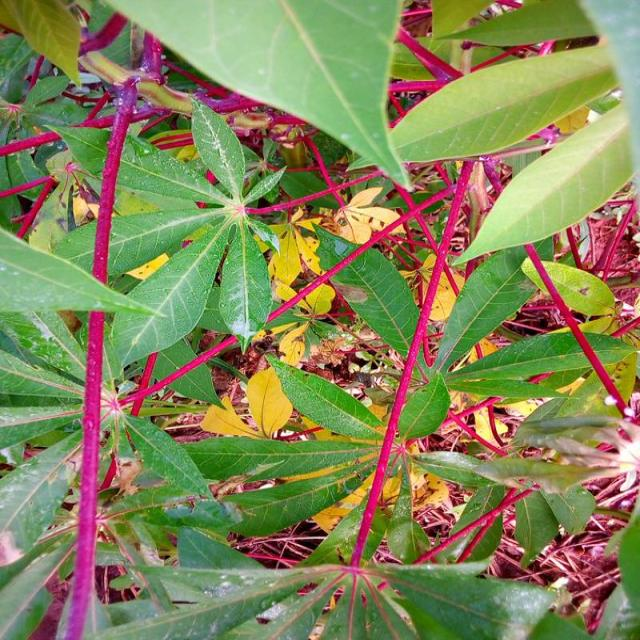cassava leaf: (1, 1, 637, 637), (103, 0, 414, 193), (450, 97, 636, 266), (388, 39, 620, 164)
